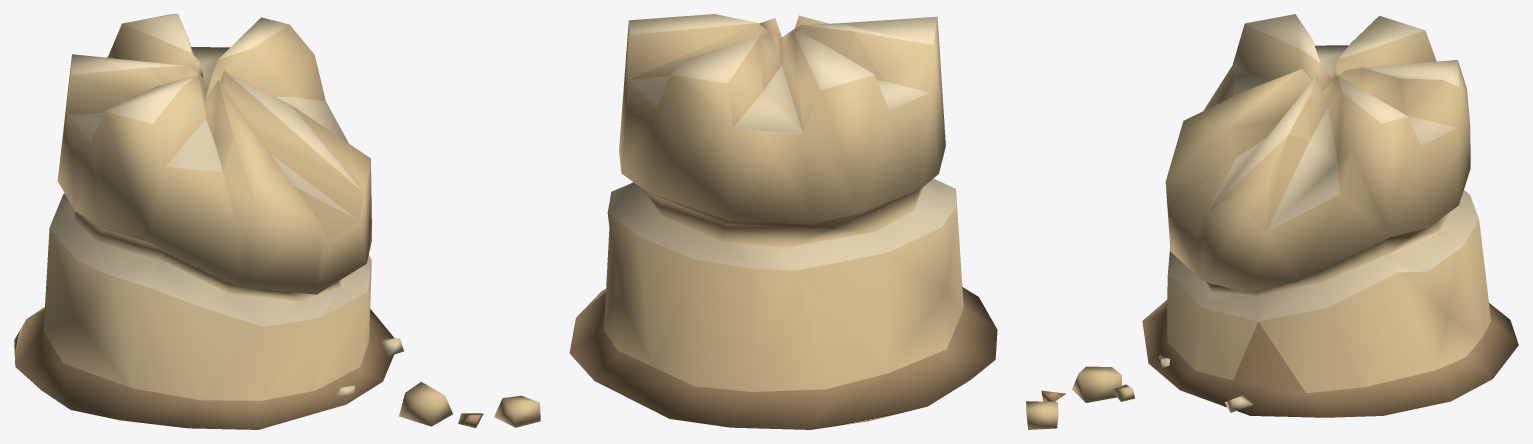
File: shore_sand_pie_d_lod2.glb
The picture shows the model from 3 angles, left to right: view 1: azimuth 30°, elevation 25°; view 2: azimuth 150°, elevation 25°; view 3: azimuth 270°, elevation 25°; orthographic projection. The views are drawn at different scales.
Visible parts, largest first — view 1: shore_sand_pie_d.001; view 2: shore_sand_pie_d.001; view 3: shore_sand_pie_d.001.
Part boxes in pixels (<box>): shore_sand_pie_d.001: <box>14,14,540,429</box>; shore_sand_pie_d.001: <box>569,14,997,429</box>; shore_sand_pie_d.001: <box>1026,14,1518,429</box>.
Bounding box in the file's own units: 4.36 × 3.46 × 5.52.
